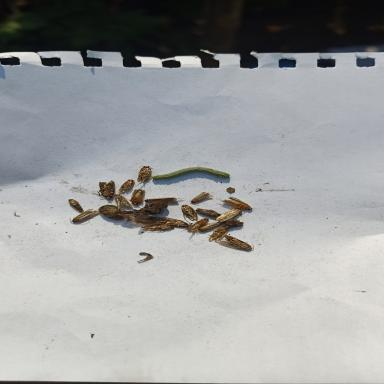pbw: (182, 216, 210, 241), (219, 234, 256, 252), (66, 207, 99, 226), (215, 195, 255, 210), (140, 217, 190, 227), (93, 180, 119, 199), (213, 208, 244, 222), (208, 225, 231, 242), (188, 190, 214, 204), (135, 166, 154, 184), (112, 193, 132, 210), (179, 204, 199, 221), (144, 196, 185, 204), (195, 206, 222, 218), (196, 220, 222, 232), (142, 223, 176, 232), (117, 178, 136, 194), (130, 187, 146, 204), (67, 198, 85, 213)
